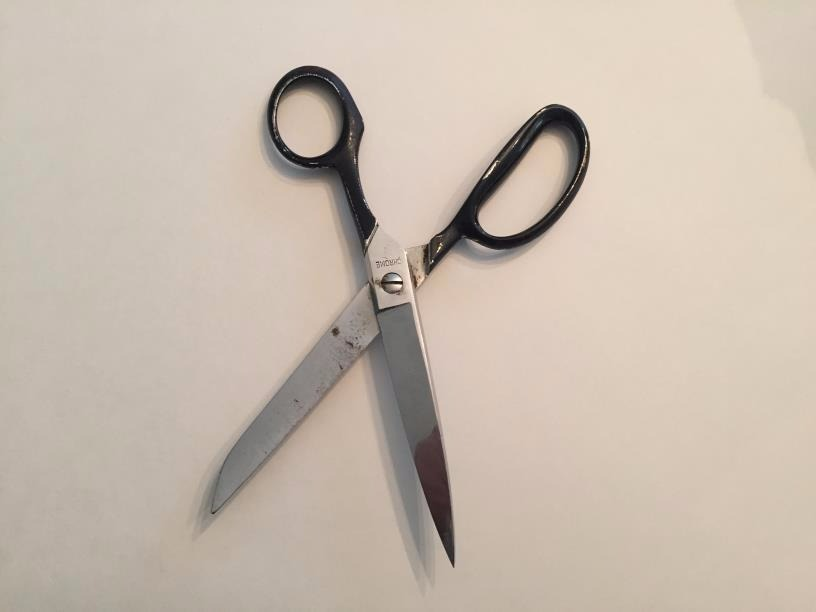scissor: (175, 51, 634, 598)
